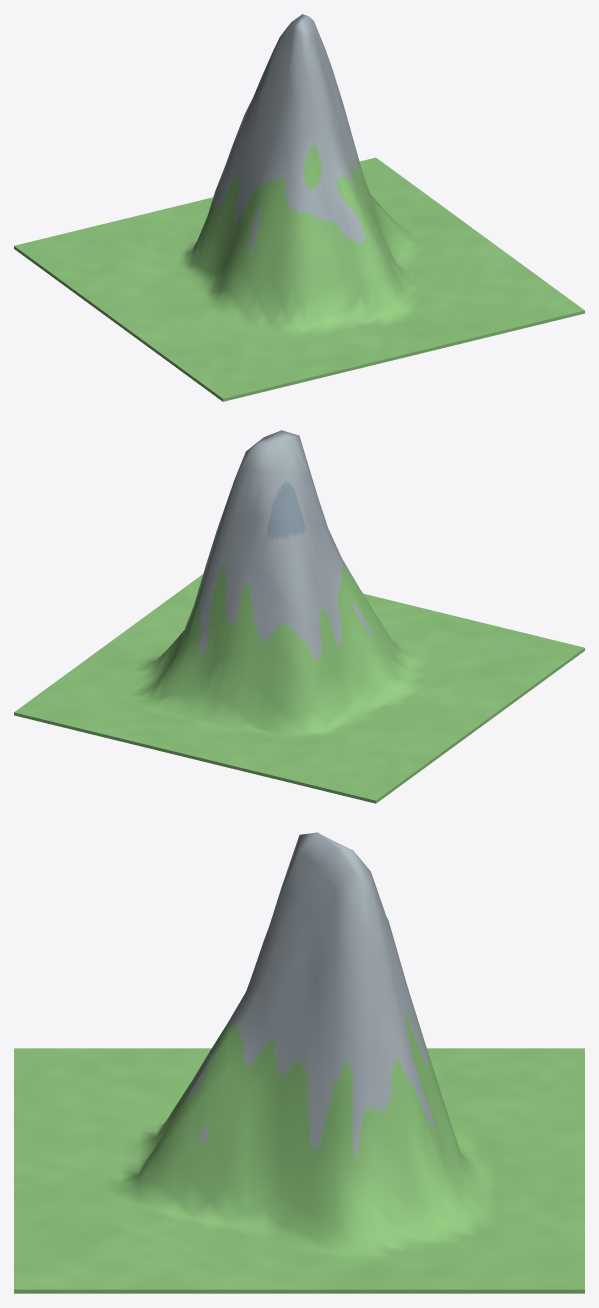
Rendered from Grass_RockyMountains_04.obj.
3 renders of one model, top to bottom at view 1: azimuth 30°, elevation 25°; view 2: azimuth 150°, elevation 25°; view 3: azimuth 270°, elevation 25°, orthographic. The views are drawn at different scales.
Size of the model in its own units: 10 by 6.73 by 10.
Materials: 1 (1 with a texture image).
